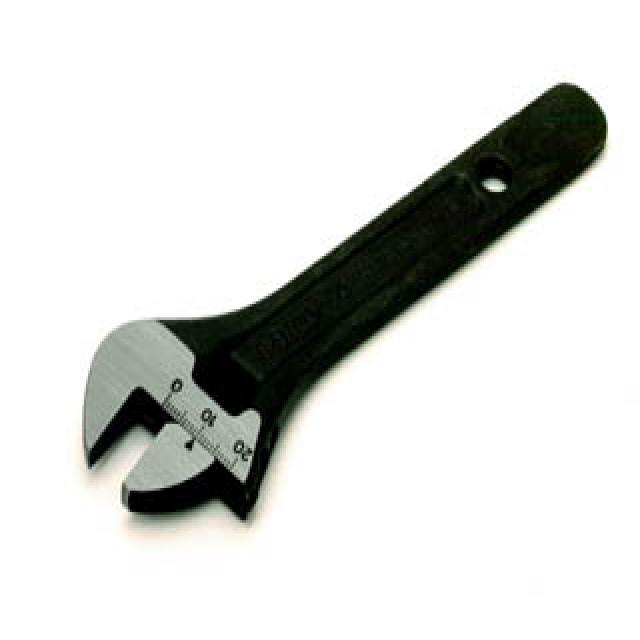wrench: (76, 73, 624, 546)
